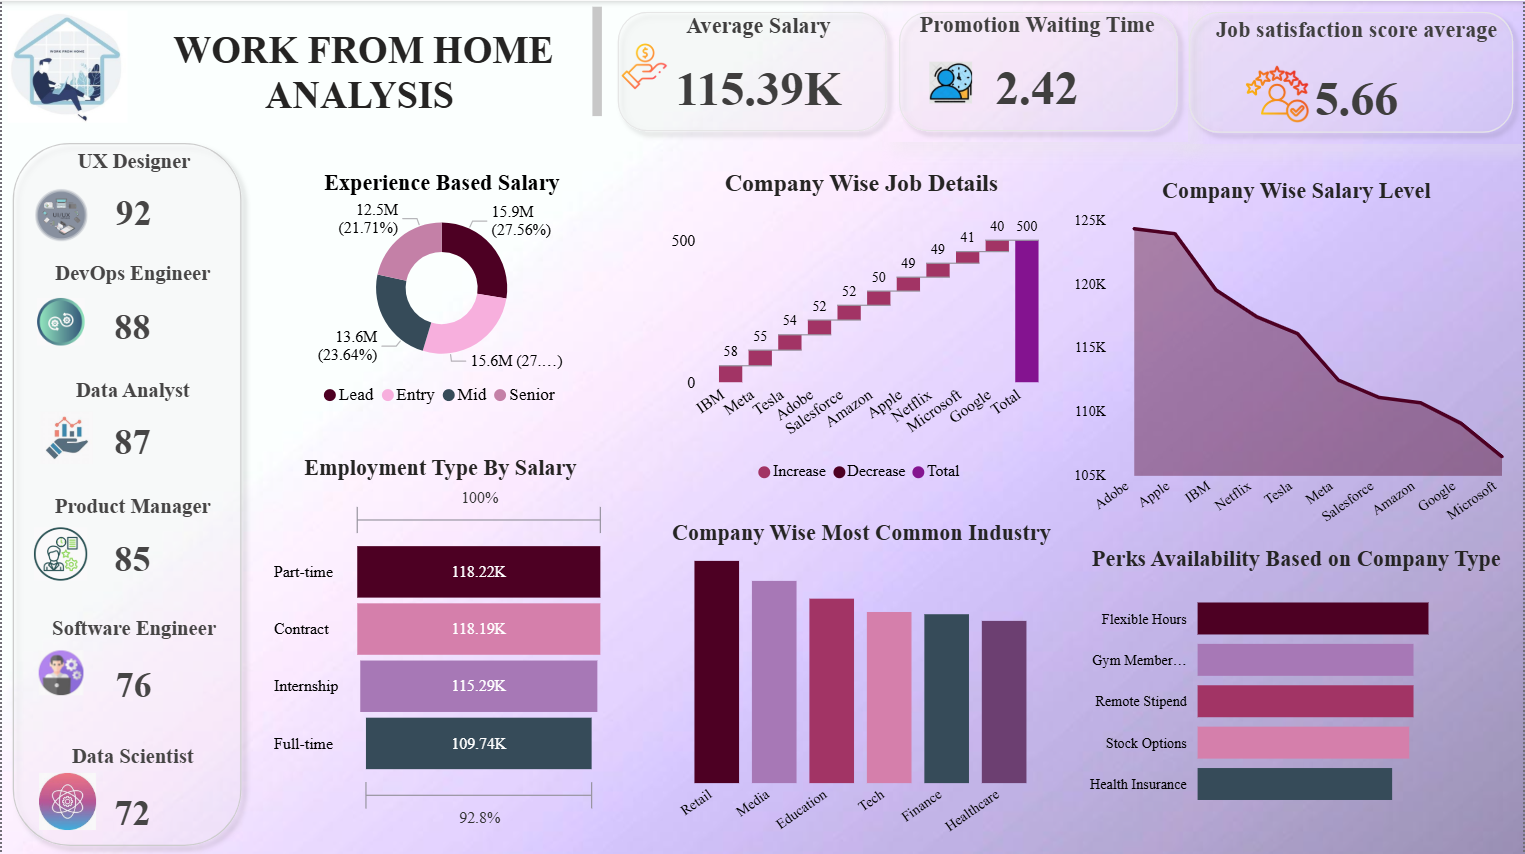

This screenshot's page, from the dashboard's own definition file:
{"tool":"powerbi","page":{"name":"Page 1","canvas":[1280,720],"ordinal":0},"visuals":[{"type":"waterfallChart","title":"Company Wise Job Details","fields":{"Category":["Sheet1.Company"],"Y":["Sheet1.total employees"]},"box":[558.1,141.9,329.1,273.3],"z":0},{"type":"areaChart","title":"Company Wise Salary Level","fields":{"Category":["Sheet1.Company"],"Y":["Avg(Sheet1.Salary (Annual))"]},"box":[896.5,148.8,383.7,309.3],"z":1000},{"type":"donutChart","title":"Experience Based Salary","fields":{"Category":["Sheet1.Experience Level"],"Y":["Sum(Sheet1.Salary (Annual))"]},"box":[250,141.9,239.5,209.3],"z":2000},{"type":"card","title":"Average Salary","fields":{"Values":["Avg(Sheet1.Salary (Annual))"]},"box":[514,10.5,244.2,101.2],"z":3000},{"type":"funnel","title":"Employment Type By Salary ","fields":{"Category":["Sheet1.Employment Type"],"Y":["Avg(Sheet1.Salary (Annual))"]},"box":[224.4,381.4,289.5,320.9],"z":4000},{"type":"textbox","box":[105.8,0,403.5,110.5],"z":5000},{"type":"columnChart","title":"Company Wise Most Common Industry","fields":{"Category":["Sheet1.Industry"],"Y":["CountNonNull(Sheet1.Company)"]},"box":[558.1,436,329.1,283.7],"z":6000},{"type":"card","title":"Promotion Waiting Time","fields":{"Values":["Avg(Sheet1.Last Promotion (Years Ago))"]},"box":[753.5,9.3,233.7,101.2],"z":7000},{"type":"card","title":"Job satisfaction score average","fields":{"Values":["Avg(Sheet1.Job Satisfaction Score (1-10))"]},"box":[1011.6,14,255.8,111.6],"z":8000},{"type":"card","title":"Data Analyst","fields":{"Values":["Sheet1.Data Analyst M"]},"box":[22.1,317.4,175.6,84.9],"z":9000},{"type":"card","title":"Data Scientist","fields":{"Values":["Sheet1.Data Scientist"]},"box":[22.1,625.6,175.6,94.2],"z":10000},{"type":"card","title":"Product Manager","fields":{"Values":["Sheet1.Product Manager"]},"box":[22.1,415.1,175.6,86],"z":11000},{"type":"card","title":"DevOps Engineer","fields":{"Values":["Sheet1.DevOps Engineer"]},"box":[22.1,219.8,175.6,87.2],"z":12000},{"type":"card","title":"UX Designer","fields":{"Values":["Sheet1.UX Designer"]},"box":[23.3,125.6,175.6,84.9],"z":13000},{"type":"card","title":"Software Engineer","fields":{"Values":["Sheet1.Software Engineer"]},"box":[23.3,518.6,175.6,93],"z":14000},{"type":"image","box":[23.3,644.2,64,58.1],"z":15000},{"type":"image","box":[22.1,340.7,65.1,53.5],"z":16000},{"type":"image","box":[23.3,245.3,53.5,50],"z":17000},{"type":"image","box":[22.1,436,54.7,57],"z":18000},{"type":"image","box":[22.1,541.9,54.7,47.7],"z":19000},{"type":"image","box":[23.3,148.8,53.5,61.6],"z":20000},{"type":"clusteredBarChart","title":"Perks Availability Based on Company Type","fields":{"Category":["Sheet1.Perks"],"Y":["CountNonNull(Sheet1.Company)"]},"box":[896.5,458.1,383.7,233.7],"z":21000},{"type":"shape","box":[0,110.5,210.5,609.3],"z":22000},{"type":"shape","box":[509.3,0,244.2,118.6],"z":23000},{"type":"shape","box":[745.4,0,252.3,118.6],"z":24000},{"type":"shape","box":[989.5,0,290.7,119.8],"z":25000},{"type":"image","box":[508.1,24.4,65.1,61.6],"z":26000},{"type":"image","box":[1039.5,46.5,66.3,64],"z":27000},{"type":"image","box":[773.3,46.5,51.2,45.3],"z":28000},{"type":"image","box":[0,0,110.5,110.5],"z":31000}]}

Visuals, with their boxes in screenshot pixels (x1, y1, x2, y2), scaled from the page's 1280x720 canvas onto the 1525x854 screenshot:
"Company Wise Job Details" waterfallChart: x1=665, y1=168, x2=1057, y2=492
"Company Wise Salary Level" areaChart: x1=1068, y1=176, x2=1524, y2=543
"Experience Based Salary" donutChart: x1=298, y1=168, x2=583, y2=417
"Average Salary" card: x1=612, y1=12, x2=903, y2=132
"Employment Type By Salary " funnel: x1=267, y1=452, x2=612, y2=833
textbox: x1=126, y1=0, x2=607, y2=131
"Company Wise Most Common Industry" columnChart: x1=665, y1=517, x2=1057, y2=853
"Promotion Waiting Time" card: x1=898, y1=11, x2=1176, y2=131
"Job satisfaction score average" card: x1=1205, y1=17, x2=1510, y2=149
"Data Analyst" card: x1=26, y1=376, x2=236, y2=477
"Data Scientist" card: x1=26, y1=742, x2=236, y2=853
"Product Manager" card: x1=26, y1=492, x2=236, y2=594
"DevOps Engineer" card: x1=26, y1=261, x2=236, y2=364
"UX Designer" card: x1=28, y1=149, x2=237, y2=250
"Software Engineer" card: x1=28, y1=615, x2=237, y2=725
image: x1=28, y1=764, x2=104, y2=833
image: x1=26, y1=404, x2=104, y2=468
image: x1=28, y1=291, x2=92, y2=350
image: x1=26, y1=517, x2=92, y2=585
image: x1=26, y1=643, x2=92, y2=699
image: x1=28, y1=176, x2=92, y2=250
"Perks Availability Based on Company Type" clusteredBarChart: x1=1068, y1=543, x2=1524, y2=821
shape: x1=0, y1=131, x2=251, y2=853
shape: x1=607, y1=0, x2=898, y2=141
shape: x1=888, y1=0, x2=1189, y2=141
shape: x1=1179, y1=0, x2=1524, y2=142
image: x1=605, y1=29, x2=683, y2=102
image: x1=1238, y1=55, x2=1317, y2=131
image: x1=921, y1=55, x2=982, y2=109
image: x1=0, y1=0, x2=132, y2=131
